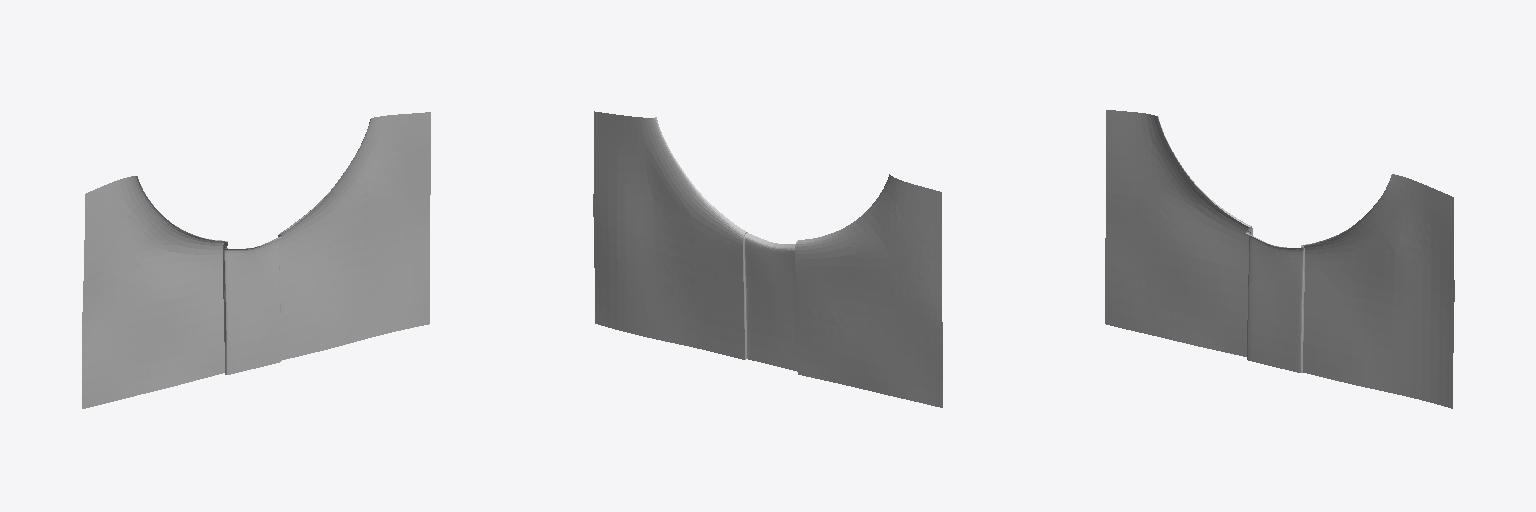
Rendered from collarCatcher.obj.
The picture shows the model from 3 angles: view 1: azimuth 30°, elevation 25°; view 2: azimuth 150°, elevation 25°; view 3: azimuth 330°, elevation 25°; orthographic projection.
Visible parts, largest first — view 1: body_shirt001; view 2: body_shirt001; view 3: body_shirt001.
Part boxes in pixels (x1,y1,x2,y2): body_shirt001: (82,112,430,408); body_shirt001: (593,111,942,407); body_shirt001: (1105,110,1454,408).
Size of the model in its own units: 2.22 by 1.34 by 0.0672.